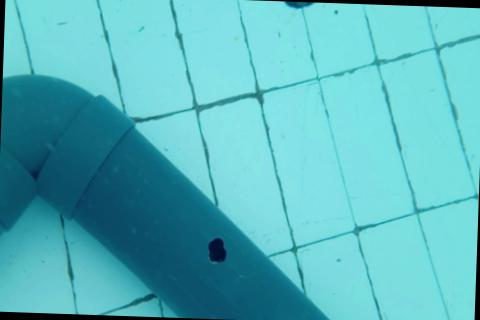kebocoran: (206, 235, 228, 266)
